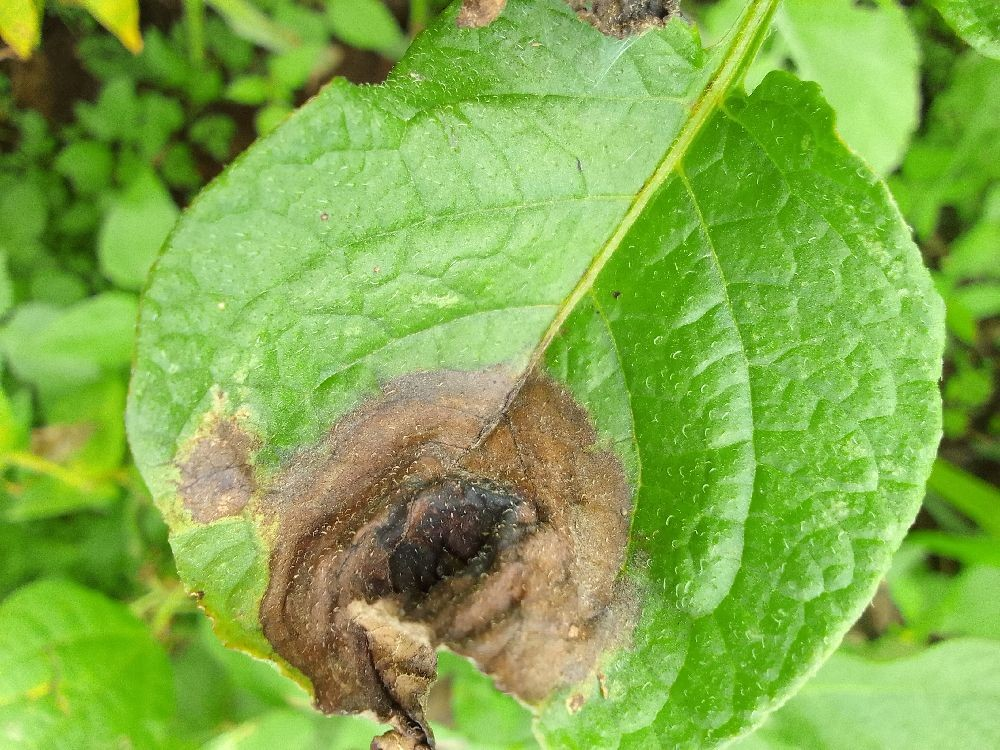late_blight: (159, 347, 652, 749), (0, 0, 133, 172), (918, 294, 1000, 508), (550, 0, 731, 56)
